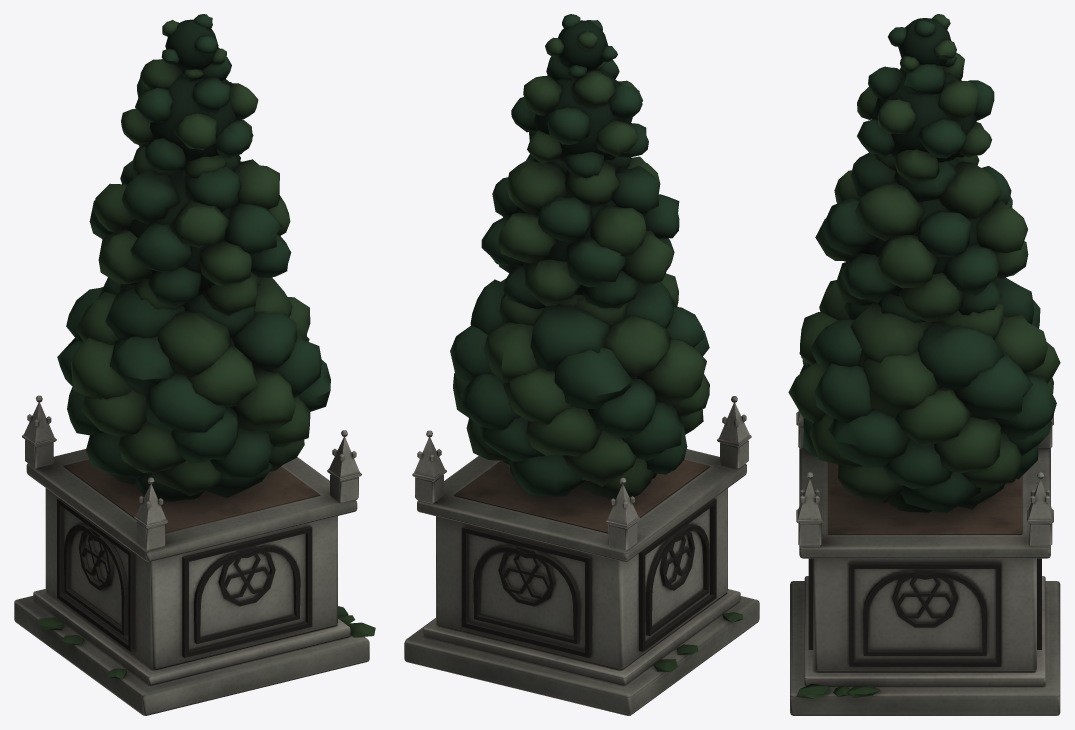
File: Topiary.fbx
3 views of the same model, side by side, from view 1: azimuth 30°, elevation 25°; view 2: azimuth 150°, elevation 25°; view 3: azimuth 270°, elevation 25° (orthographic). The views are drawn at different scales.
Parts seen in each view (by area): view 1: Topiary; view 2: Topiary; view 3: Topiary.
Part boxes in pixels (bbox=[...]): Topiary: bbox=[14, 14, 375, 715]; Topiary: bbox=[404, 14, 759, 715]; Topiary: bbox=[788, 14, 1060, 715].
Bounding box in the file's own units: 253 × 604 × 231.
